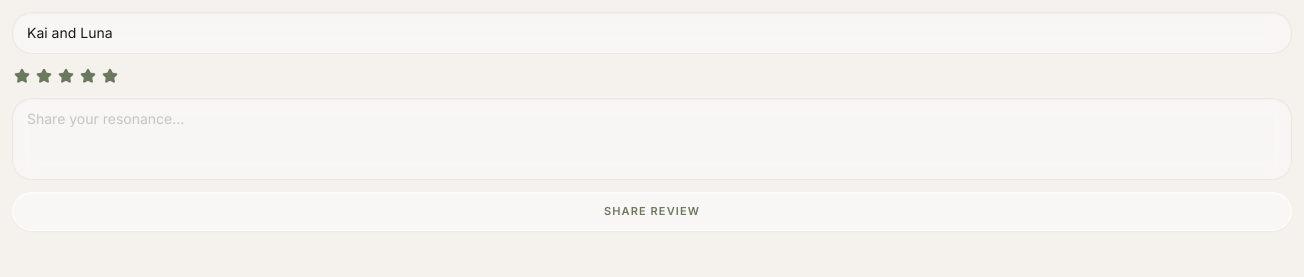
it: ReviewForm UI validation › shows an error when the review text is empty
This screenshot has width=1304, height=277.
Click the button "Share Review": [652, 211] box [12, 192, 1292, 230]
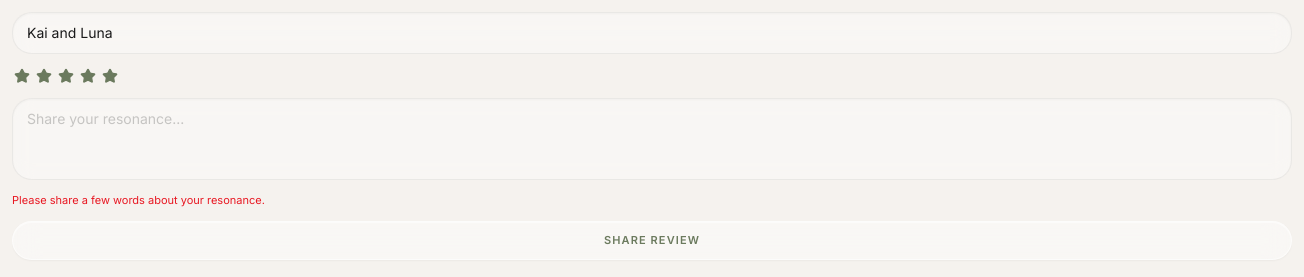
Result: the text "Please share a few words about your resonance." is shown at [12, 193, 265, 207]
